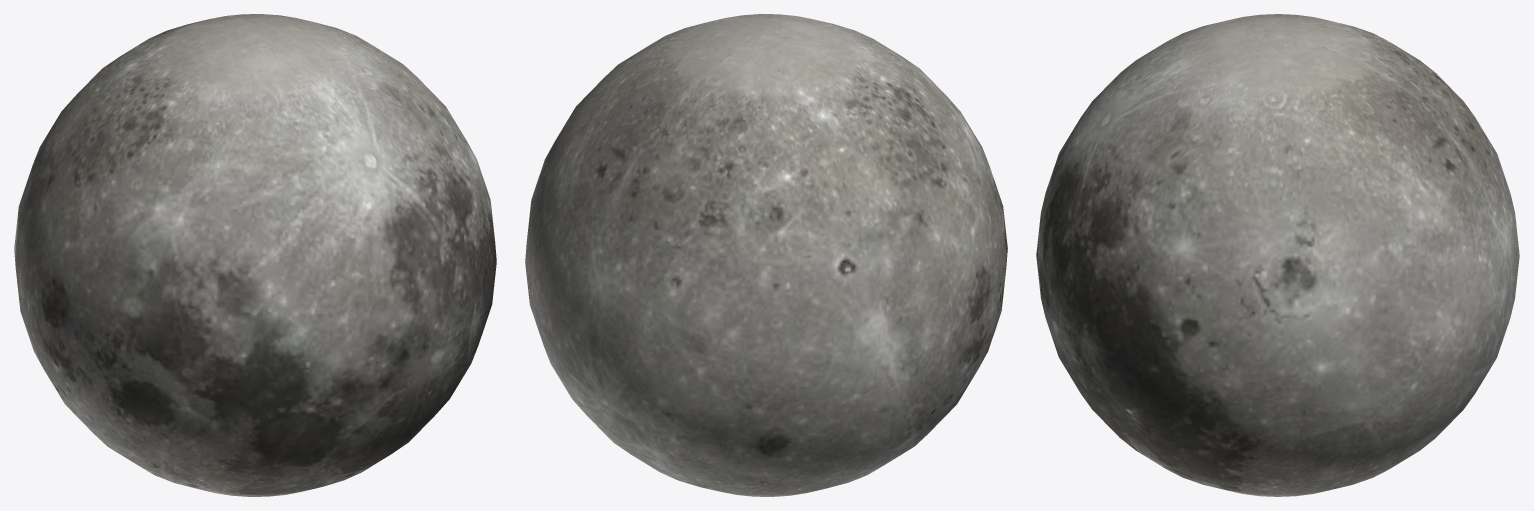
Rendered from luna.glb.
3 views of the same model, side by side, from view 1: azimuth 30°, elevation 25°; view 2: azimuth 150°, elevation 25°; view 3: azimuth 270°, elevation 25° (orthographic).
Parts seen in each view (by area): view 1: Object_3; view 2: Object_3; view 3: Object_3.
Part boxes in pixels (bbox=[...]): Object_3: bbox=[14, 14, 496, 496]; Object_3: bbox=[525, 14, 1007, 496]; Object_3: bbox=[1036, 14, 1519, 496].
Bounding box in the file's own units: 1155 × 1155 × 1155.
2 materials, 1 textured.
